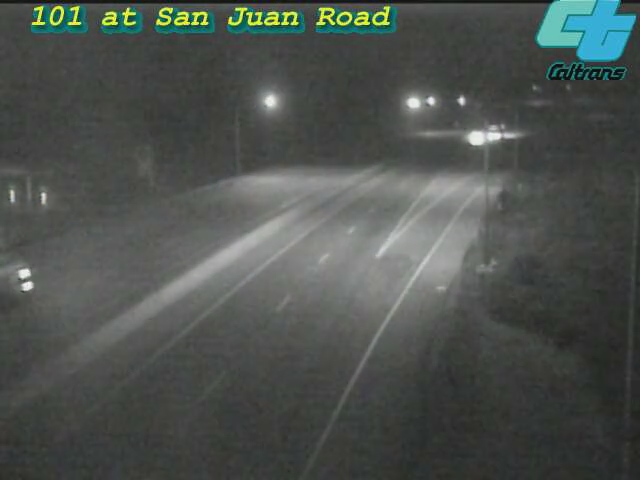vehicle: (1, 244, 51, 324), (475, 106, 525, 156), (451, 112, 501, 162)
